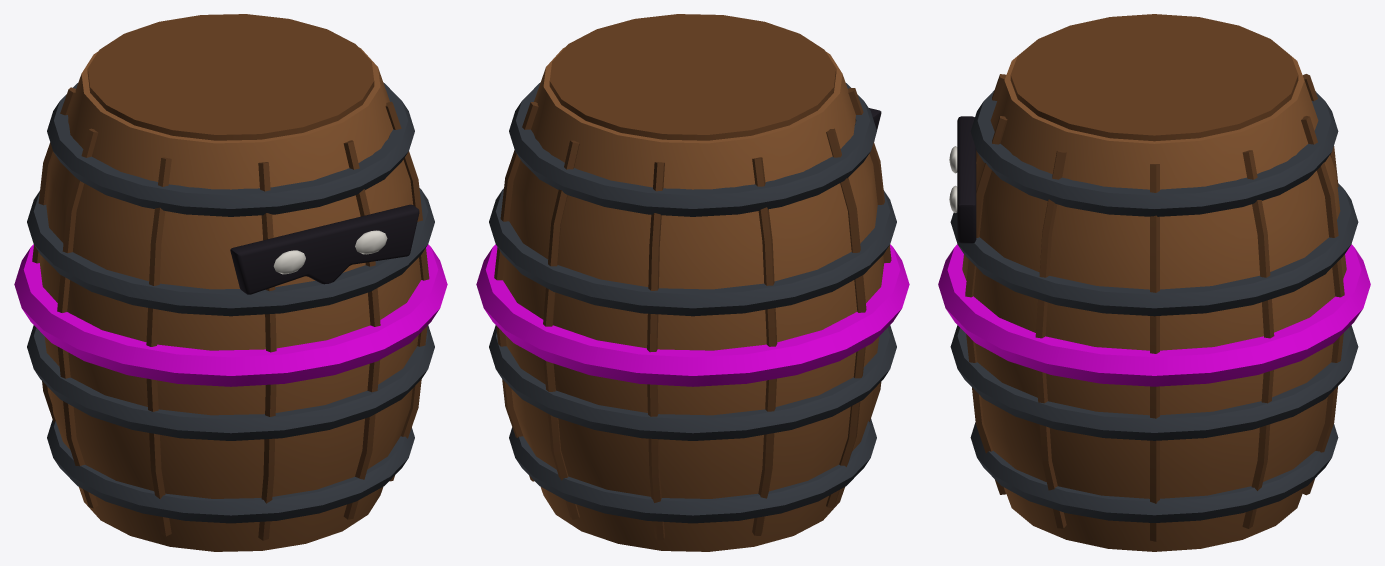
The model's file is barril.glb.
3 views of the same model, side by side, from view 1: azimuth 30°, elevation 25°; view 2: azimuth 150°, elevation 25°; view 3: azimuth 270°, elevation 25° (orthographic).
Parts seen in each view (by area): view 1: corpo; view 2: corpo; view 3: corpo.
Boxes of the visible parts, x1,y1,x2,y2 form: corpo: (14, 14, 447, 551); corpo: (476, 14, 909, 551); corpo: (938, 14, 1370, 551).
Size of the model in its own units: 0.692 by 0.73 by 0.692.
